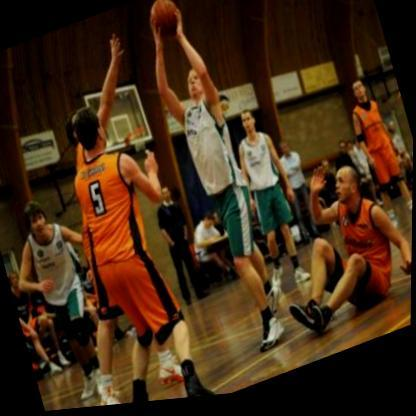basketball: (148, 0, 188, 46)
